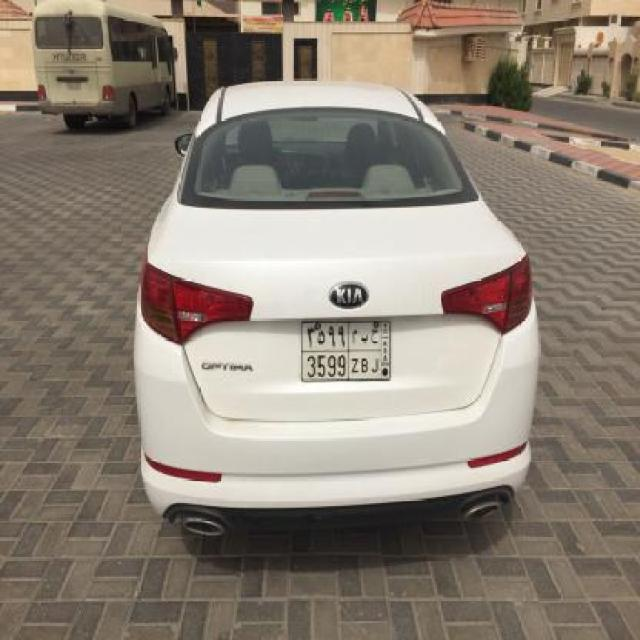license_plate: (299, 316, 393, 384)
